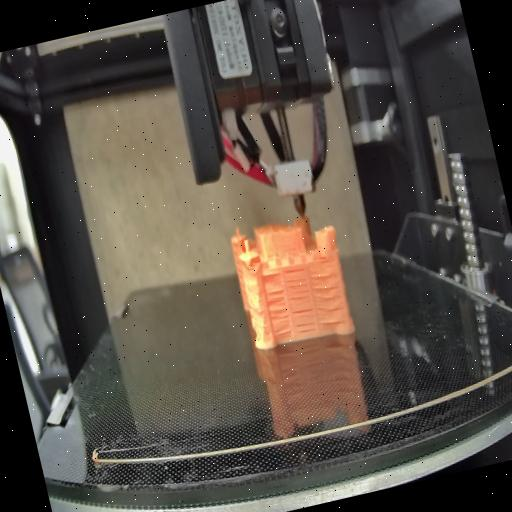cracks: (283, 267, 317, 338), (308, 268, 348, 326), (264, 288, 294, 338), (260, 270, 281, 282)
